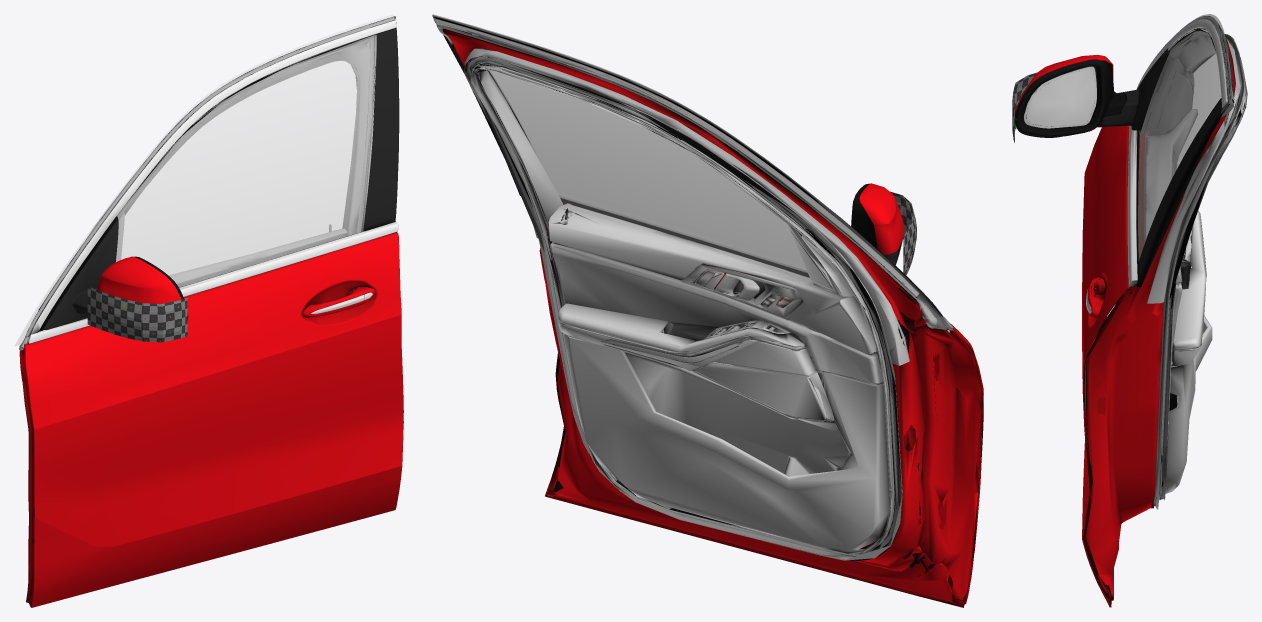
File: O_G05_Doors_F.glb
3 views of the same model, side by side, from view 1: azimuth 30°, elevation 25°; view 2: azimuth 150°, elevation 25°; view 3: azimuth 270°, elevation 25° (orthographic). The views are drawn at different scales.
Visible parts, largest first — view 1: 002_Door_F_paint, 007_Door_F_glass, 001_Door_F_interior, 004_Door_F_plastic_grained, 005_Door_F_chrome_mat, 012_Indicators_lighteffect, 010_SideMirrors_paint, 003_Door_F_plastic_glossy; view 2: 001_Door_F_interior, 002_Door_F_paint, 007_Door_F_glass, 010_SideMirrors_paint, 012_Indicators_lighteffect, 009_SideMirrors_plastic_matte, 003_Door_F_plastic_glossy; view 3: 002_Door_F_paint, 001_Door_F_interior, 007_Door_F_glass, 004_Door_F_plastic_grained, 011_SideMirrors_chrome, 009_SideMirrors_plastic_matte, 005_Door_F_chrome_mat, 010_SideMirrors_paint, 003_Door_F_plastic_glossy, 012_Indicators_lighteffect.
Part boxes in pixels (x1,y1,x2,y2): 002_Door_F_paint: (19, 232, 403, 607); 007_Door_F_glass: (14, 14, 393, 346); 001_Door_F_interior: (19, 16, 395, 350); 004_Door_F_plastic_grained: (43, 28, 399, 329); 005_Door_F_chrome_mat: (28, 20, 398, 343); 012_Indicators_lighteffect: (87, 286, 187, 342); 010_SideMirrors_paint: (97, 256, 181, 303); 003_Door_F_plastic_glossy: (25, 16, 396, 344); 001_Door_F_interior: (432, 15, 954, 560); 002_Door_F_paint: (442, 28, 983, 607); 007_Door_F_glass: (432, 14, 952, 330); 010_SideMirrors_paint: (859, 183, 904, 254); 012_Indicators_lighteffect: (890, 191, 916, 274); 009_SideMirrors_plastic_matte: (851, 183, 902, 251); 003_Door_F_plastic_glossy: (561, 198, 945, 332); 002_Door_F_paint: (1082, 40, 1235, 607); 001_Door_F_interior: (1132, 16, 1247, 509); 007_Door_F_glass: (1138, 14, 1232, 287); 004_Door_F_plastic_grained: (1097, 50, 1222, 287); 011_SideMirrors_chrome: (1023, 66, 1097, 128); 009_SideMirrors_plastic_matte: (1015, 59, 1126, 137); 005_Door_F_chrome_mat: (1127, 19, 1227, 287); 010_SideMirrors_paint: (1015, 55, 1113, 113); 003_Door_F_plastic_glossy: (1100, 16, 1230, 294); 012_Indicators_lighteffect: (1012, 72, 1036, 142).
Bounding box in the file's own units: 129 × 132 × 51.22.
Materials: 9 (1 with a texture image).
